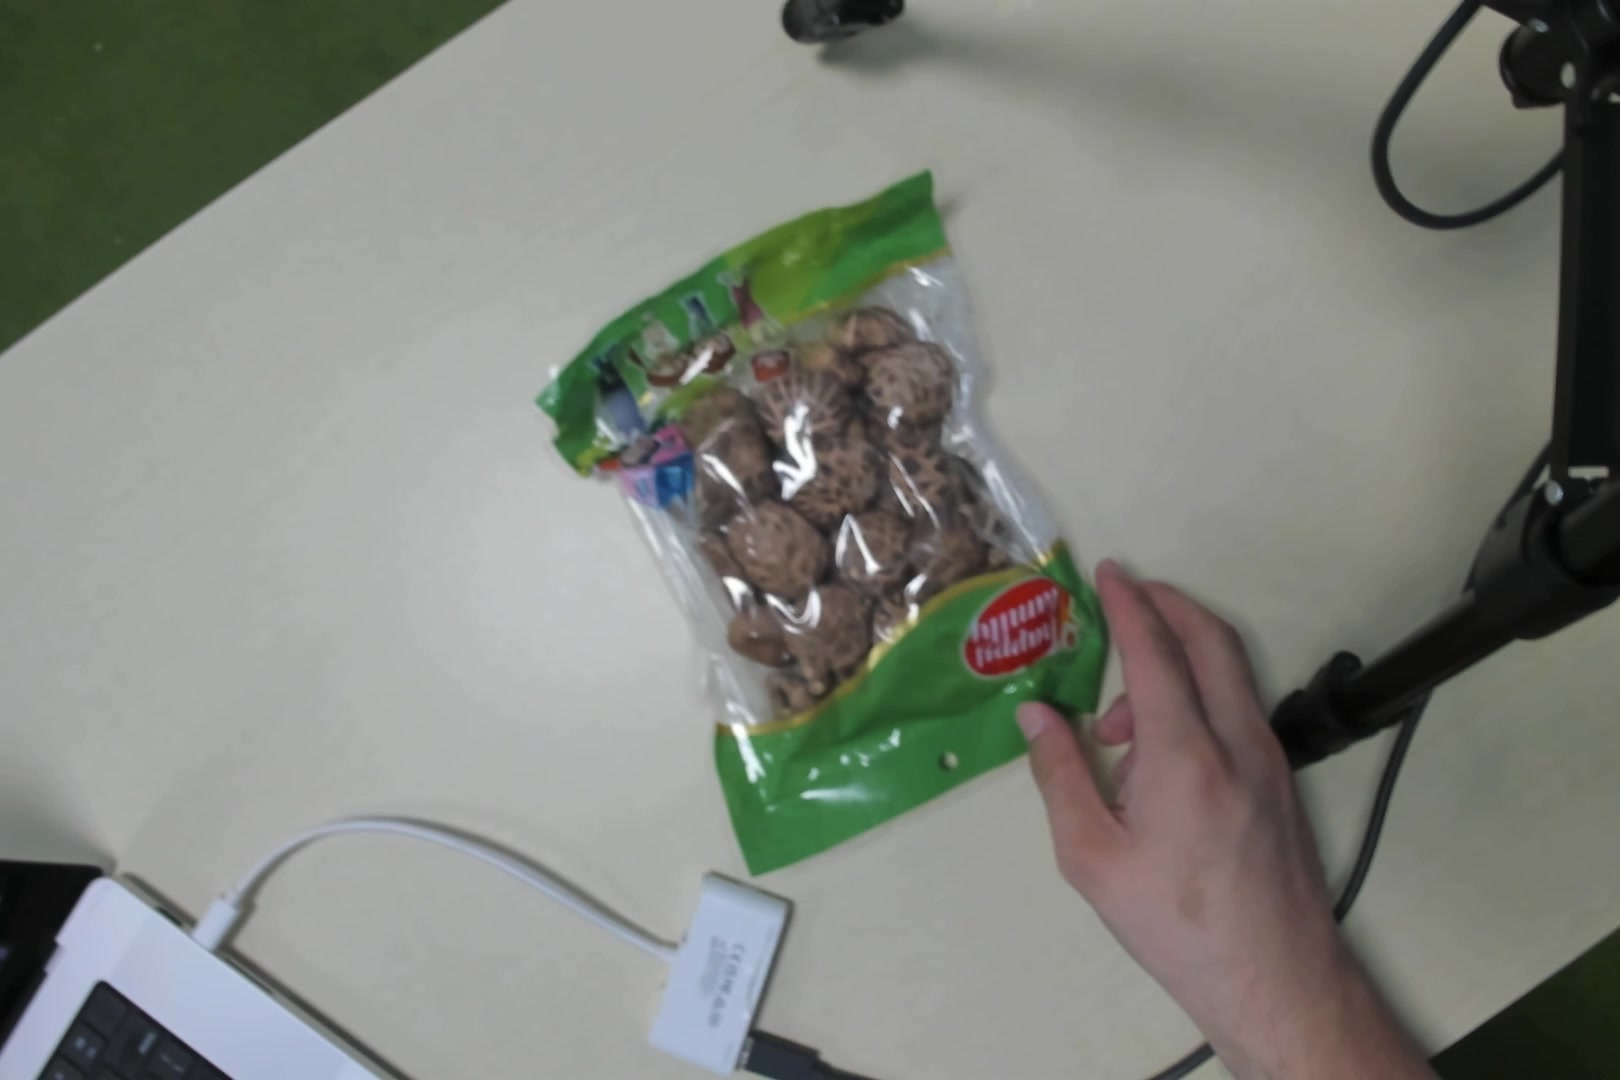OtherDriedFood_100-199g_NonHalal_NonHealthy: (607, 231, 1053, 810)
